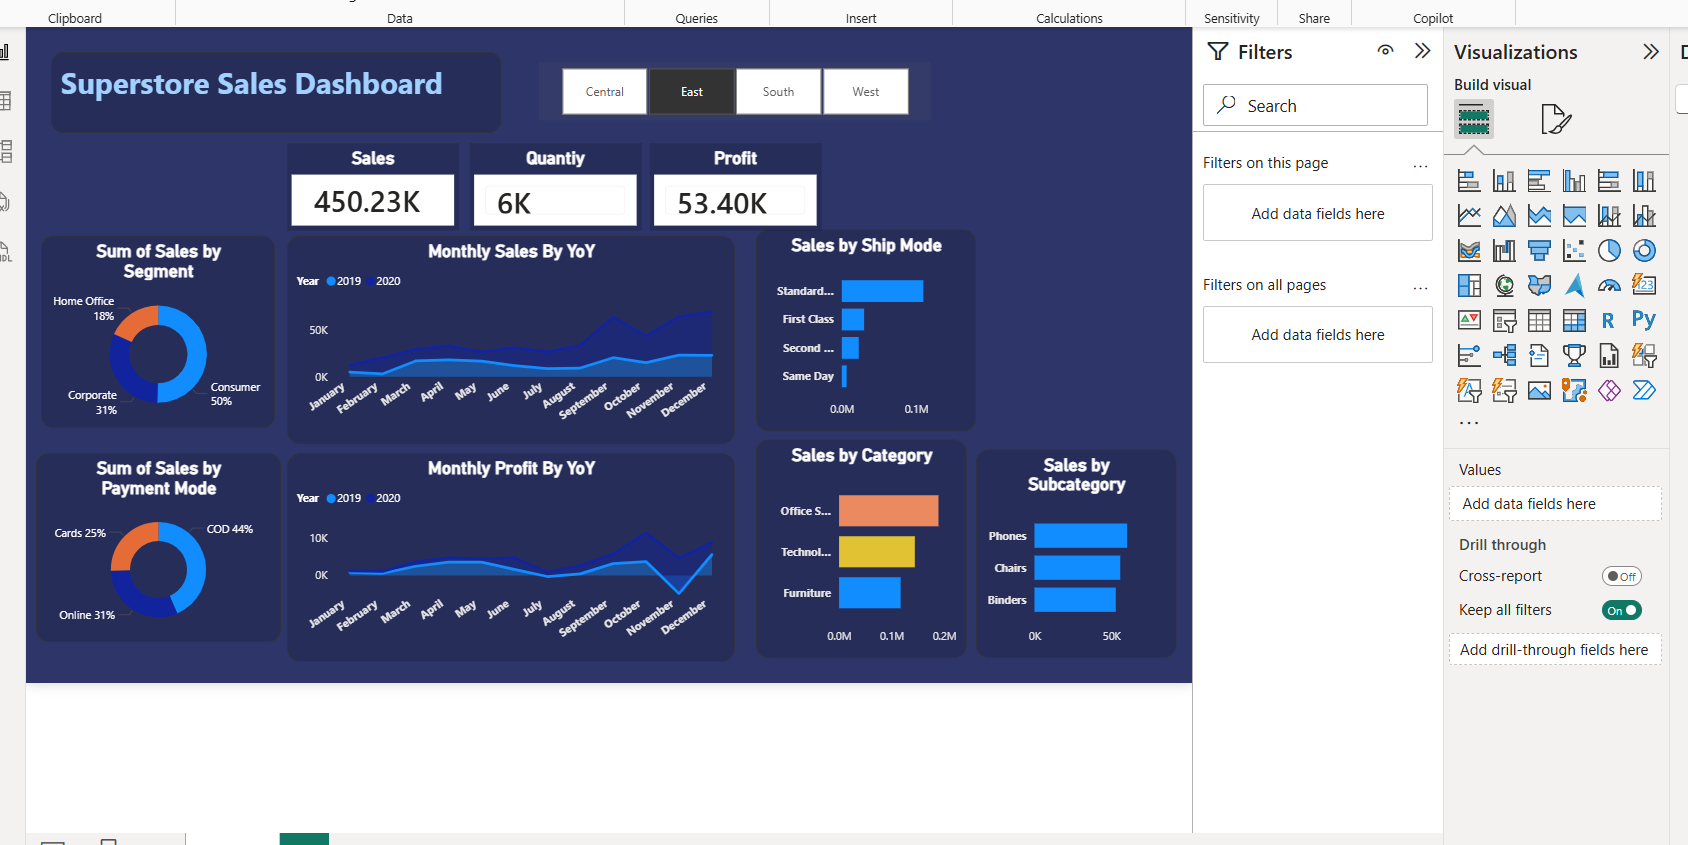

The page's visual inventory and layout, read from the dashboard file:
{"tool":"powerbi","page":{"name":"Page 1","canvas":[1280,720],"ordinal":0},"visuals":[{"type":"clusteredBarChart","title":"Sales by Category","fields":{"Category":["SuperStore_Sales_Dataset.Category"],"Y":["Sum(SuperStore_Sales_Dataset.Sales)"]},"box":[801.4,452.9,231.4,240],"z":0},{"type":"clusteredBarChart","title":"Sales by Ship Mode","fields":{"Category":["SuperStore_Sales_Dataset.Ship Mode"],"Y":["Sum(SuperStore_Sales_Dataset.Sales)"]},"box":[801.4,222.9,241.4,221.4],"z":1000},{"type":"clusteredBarChart","title":"Sales by Subcategory","fields":{"Category":["SuperStore_Sales_Dataset.Sub-Category"],"Y":["Sum(SuperStore_Sales_Dataset.Sales)"]},"box":[1042.9,464.3,220,228.6],"z":2000},{"type":"stackedAreaChart","title":"Monthly Sales By YoY","fields":{"Y":["Sum(SuperStore_Sales_Dataset.Sales)"],"Series":["SuperStore_Sales_Dataset.Order Date.Variation.Date Hierarchy.Year"],"Category":["SuperStore_Sales_Dataset.Order Date.Variation.Date Hierarchy.Month","SuperStore_Sales_Dataset.Order Date.Variation.Date Hierarchy.Day"]},"box":[287.1,228.6,491.4,228.6],"z":3000},{"type":"stackedAreaChart","title":"Monthly Profit By YoY","fields":{"Series":["SuperStore_Sales_Dataset.Order Date.Variation.Date Hierarchy.Year"],"Category":["SuperStore_Sales_Dataset.Order Date.Variation.Date Hierarchy.Month","SuperStore_Sales_Dataset.Order Date.Variation.Date Hierarchy.Day"],"Y":["Sum(SuperStore_Sales_Dataset.Profit)"]},"box":[287.1,468.6,491.4,228.6],"z":4000},{"type":"donutChart","fields":{"Category":["SuperStore_Sales_Dataset.Segment"],"Y":["Sum(SuperStore_Sales_Dataset.Sales)"]},"box":[17.1,228.6,257.1,211.4],"z":5000},{"type":"donutChart","fields":{"Category":["SuperStore_Sales_Dataset.Payment Mode"],"Y":["Sum(SuperStore_Sales_Dataset.Sales)"]},"box":[11.4,468.6,268.6,207.1],"z":6000},{"type":"textbox","box":[27.1,27.1,494.3,88.6],"z":7000},{"type":"cardVisual","title":"Sales","fields":{"Data":["Sum(SuperStore_Sales_Dataset.Sales)"]},"box":[287.1,127.1,188.6,95.7],"z":8000},{"type":"cardVisual","title":"Quantiy","fields":{"Data":["Sum(SuperStore_Sales_Dataset.Quantity)"]},"box":[487.1,127.1,188.6,95.7],"z":9000},{"type":"cardVisual","title":"Profit","fields":{"Data":["Sum(SuperStore_Sales_Dataset.Profit)"]},"box":[684.3,127.1,188.6,95.7],"z":10000},{"type":"slicer","fields":{"Values":["SuperStore_Sales_Dataset.Region"]},"box":[562.9,38.6,430,64.3],"z":11000}]}

Visuals, with their boxes on the page's 1280x720 design canvas (x1, y1, x2, y2). These are canvas units, not pixel positions in the 1688x845 screenshot, which may show the page scaled, cropped or inside an application window:
"Sales by Category" clusteredBarChart: 801 453 1033 693
"Sales by Ship Mode" clusteredBarChart: 801 223 1043 444
"Sales by Subcategory" clusteredBarChart: 1043 464 1263 693
"Monthly Sales By YoY" stackedAreaChart: 287 229 778 457
"Monthly Profit By YoY" stackedAreaChart: 287 469 778 697
donutChart - SuperStore_Sales_Dataset.Segment x Sum(SuperStore_Sales_Dataset.Sales): 17 229 274 440
donutChart - SuperStore_Sales_Dataset.Payment Mode x Sum(SuperStore_Sales_Dataset.Sales): 11 469 280 676
textbox: 27 27 521 116
"Sales" cardVisual: 287 127 476 223
"Quantiy" cardVisual: 487 127 676 223
"Profit" cardVisual: 684 127 873 223
slicer - SuperStore_Sales_Dataset.Region: 563 39 993 103
